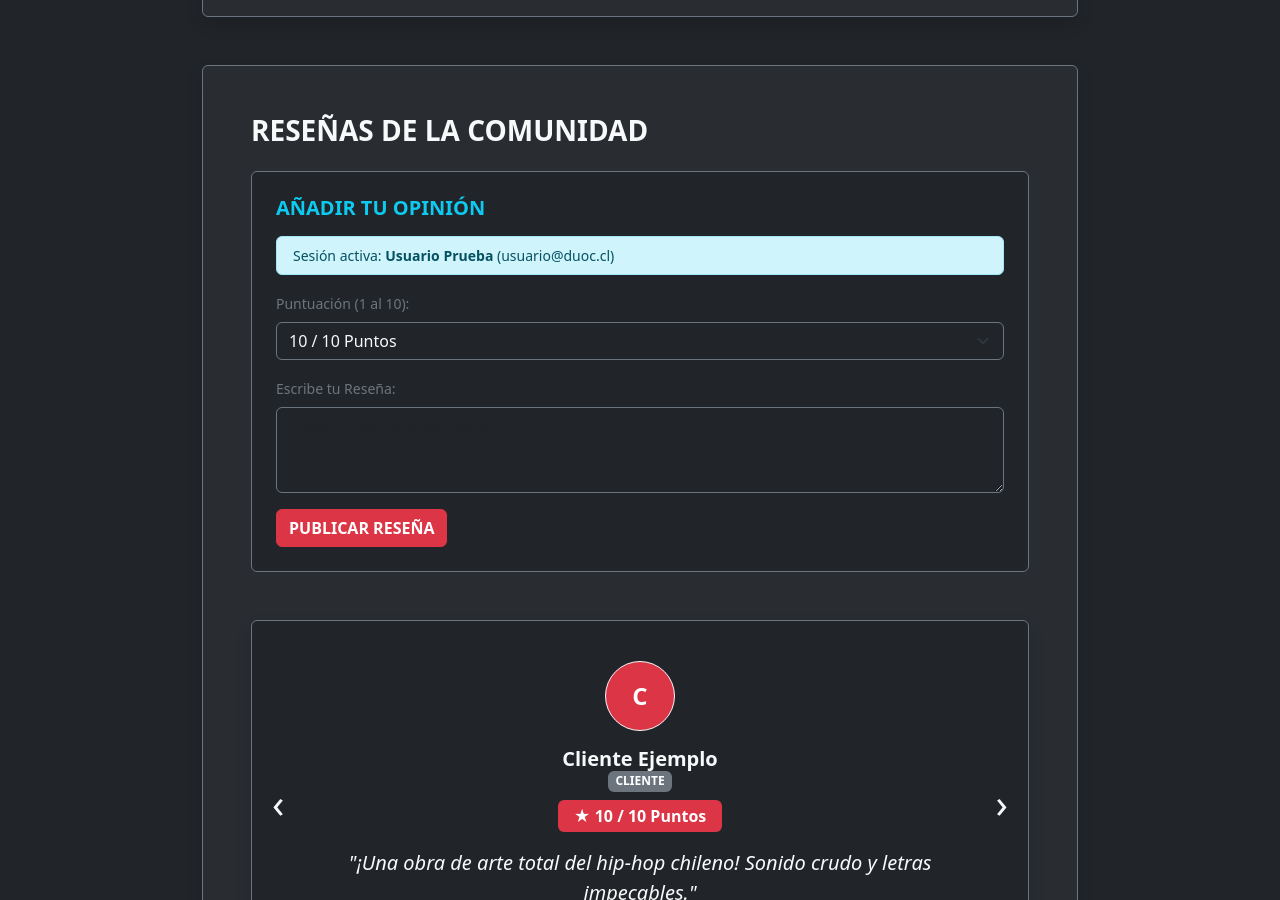
Test: Prueba Unitaria - Vista DetalleResena y Persistencia en LocalStorage › debe permitir a un usuario publicar una reseña y verificar que se guarde en localStorage
The width and height of the screenshot is (1280, 900).
(page scrolled)
# ESCRIBIR COMENTARIO EN EL TEXTAREA
Type "Excelente álbum de culto" into the text box with placeholder "¿Qué opinas de este disco?...".
click(640, 450); type("Excelente álbum de culto")  # box [276,407,1004,493]
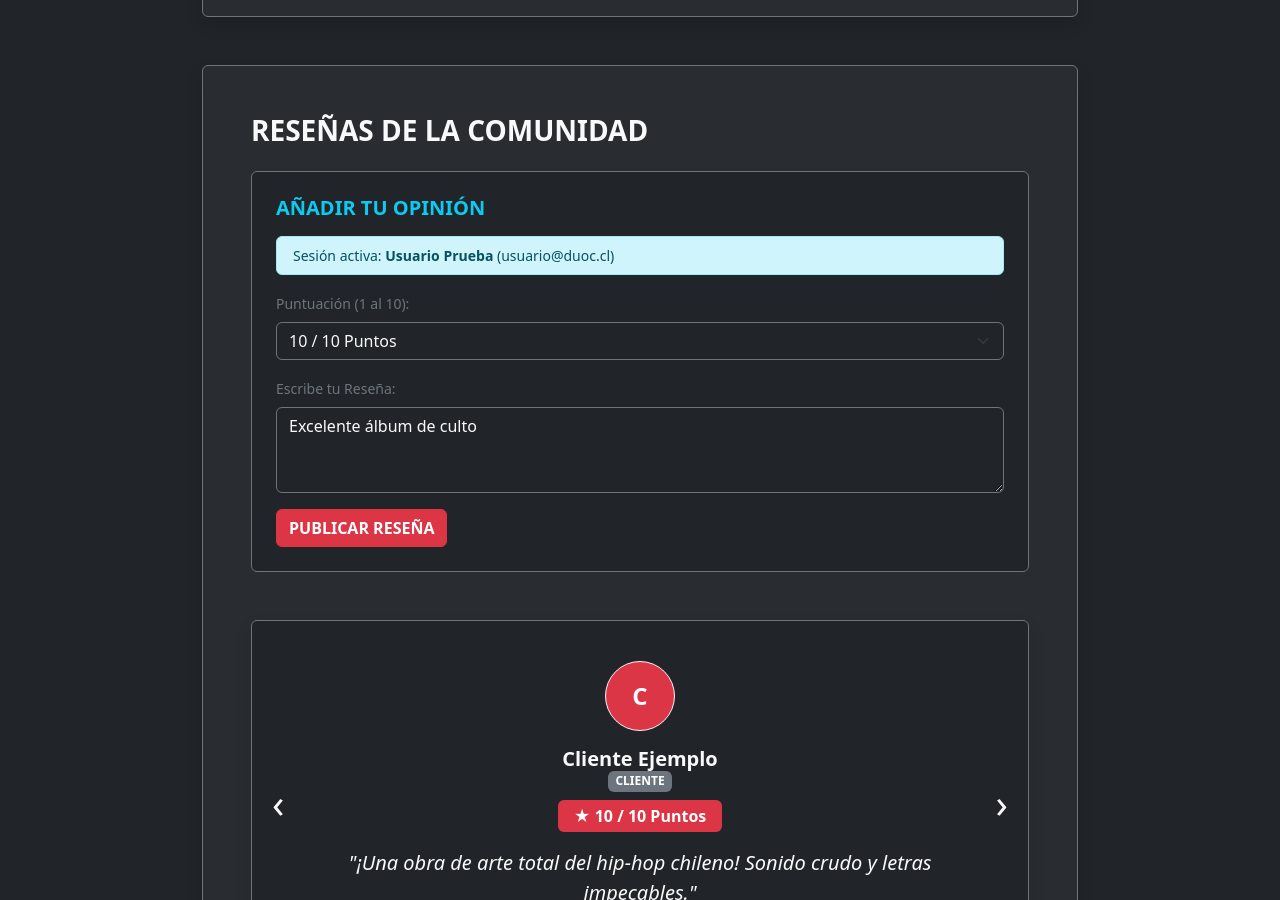
# HACER CLIC EN EL BOTÓN PUBLICAR
Click the button "Publicar Reseña".
click(362, 528)  # box [276,509,448,547]
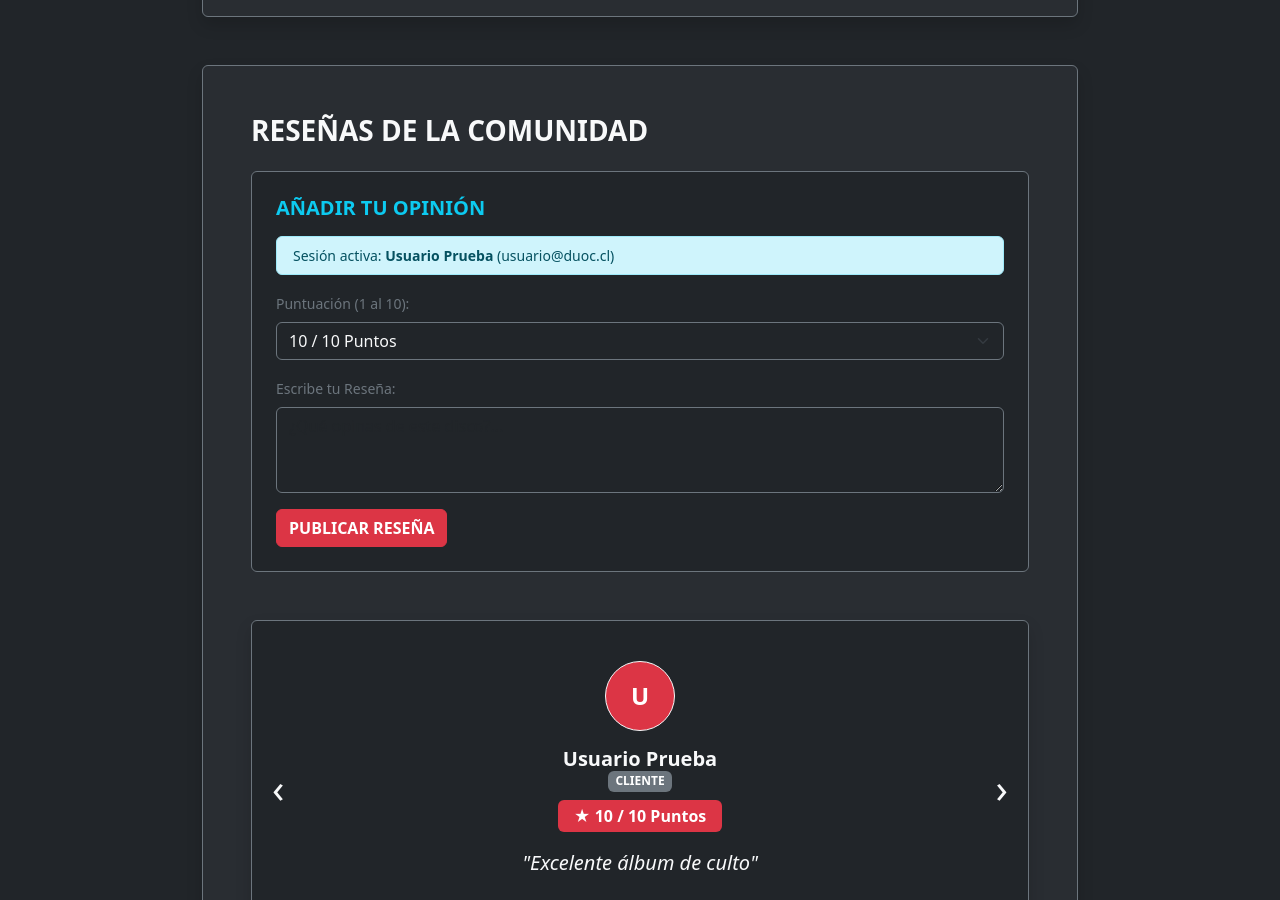
expect the text "Usuario Prueba" is shown: met, box [385,246,493,265]
expect the text "\"Excelente álbum de culto\"" is shown: met, box [522,848,758,878]
